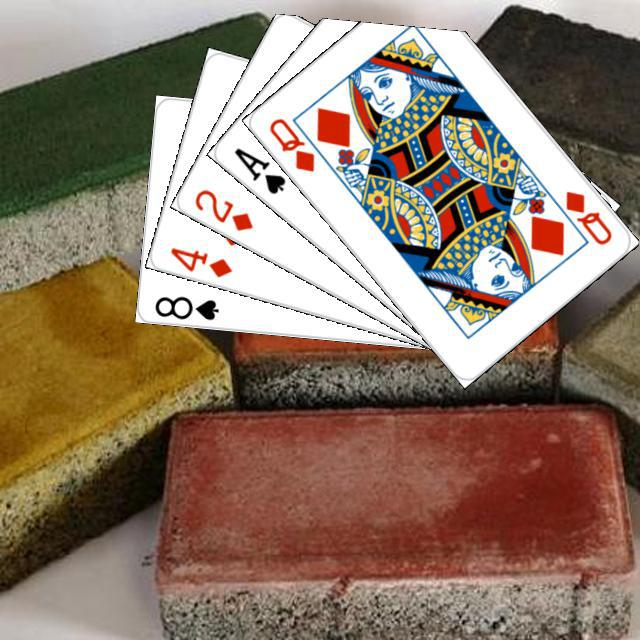2d: (189, 184, 255, 233)
4d: (165, 242, 234, 279)
8s: (150, 291, 220, 322)
As: (229, 142, 288, 196)
Qd: (560, 186, 614, 247), (264, 113, 317, 174)
